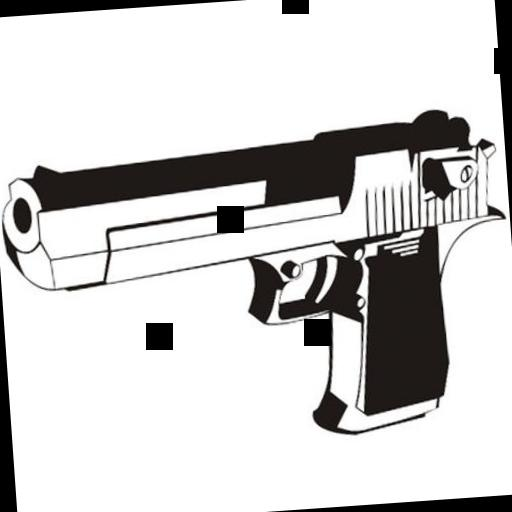Handgun: (17, 81, 512, 449)
